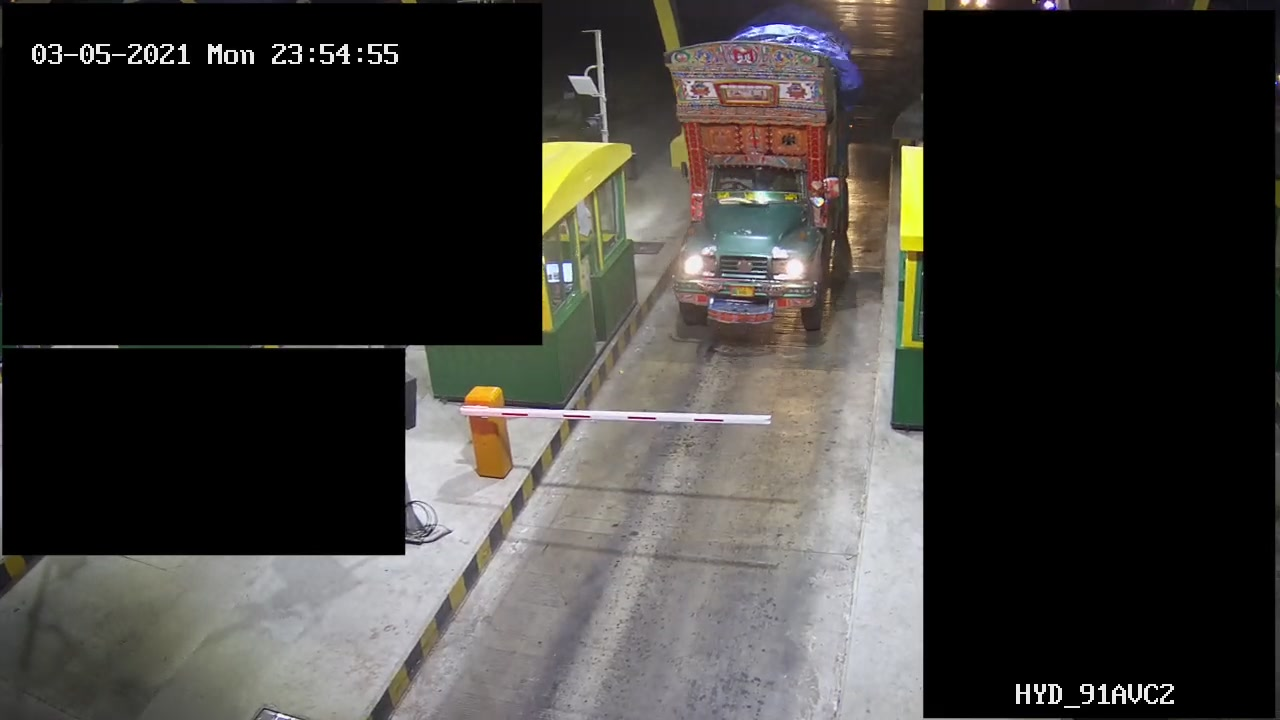F5: (668, 5, 865, 345)
